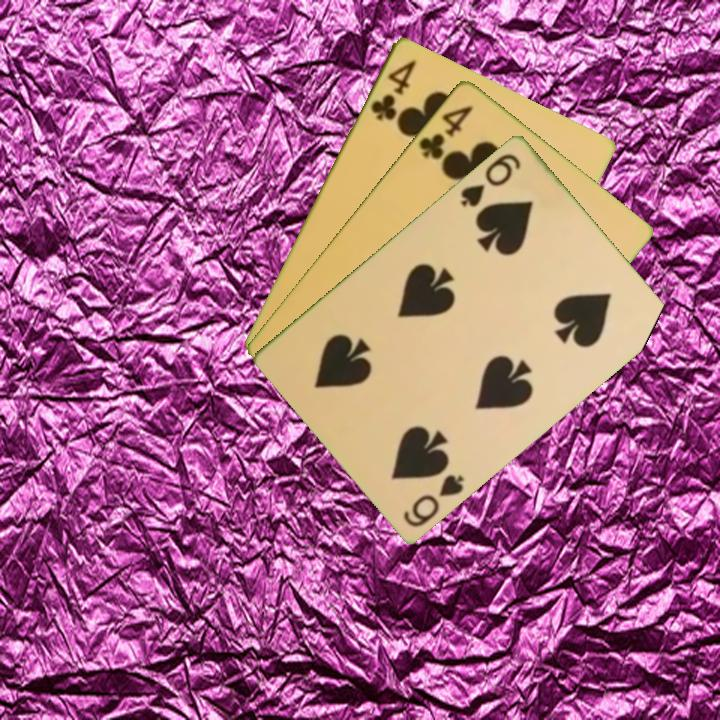4c: (414, 101, 476, 162), (366, 55, 419, 123)
6s: (456, 149, 524, 210), (399, 470, 468, 530)
